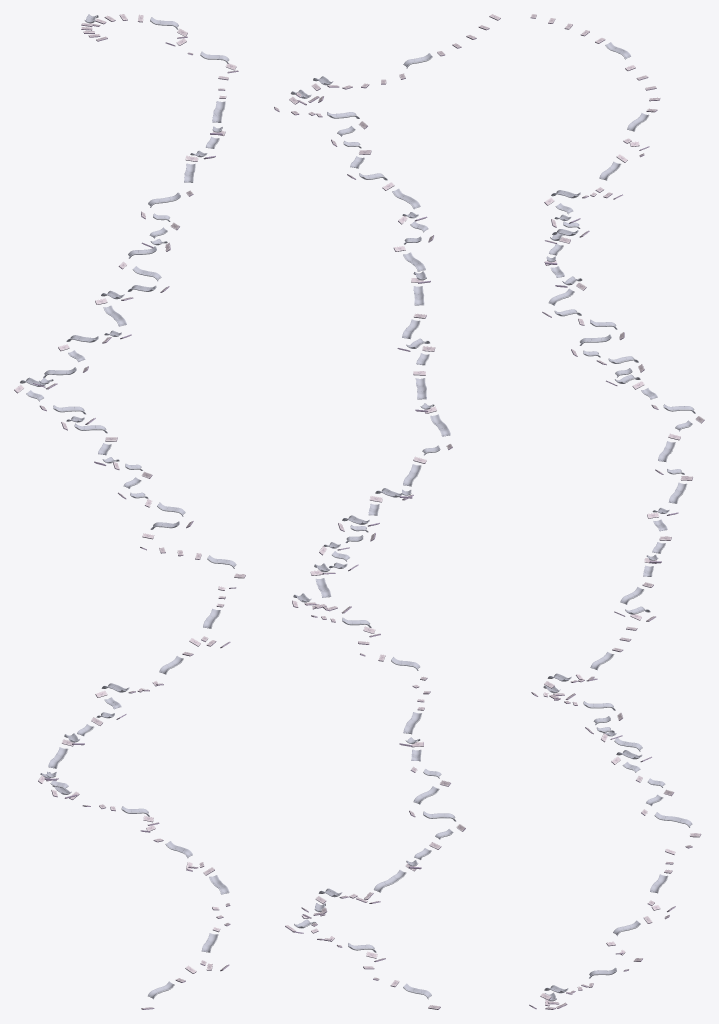
File: C-route-v027-13.glb
The picture shows the model from 3 angles, left to right: view 1: azimuth 30°, elevation 25°; view 2: azimuth 150°, elevation 25°; view 3: azimuth 270°, elevation 25°; orthographic projection. The views are drawn at different scales.
Size of the model in its own units: 0.4249 by 2.11 by 0.3483.
5 materials, 1 textured.
